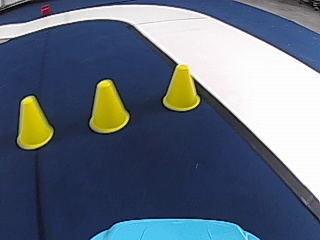cone: (88, 79, 130, 134), (15, 95, 54, 149), (162, 64, 200, 110)
